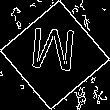M_S: (30, 28, 80, 82)
